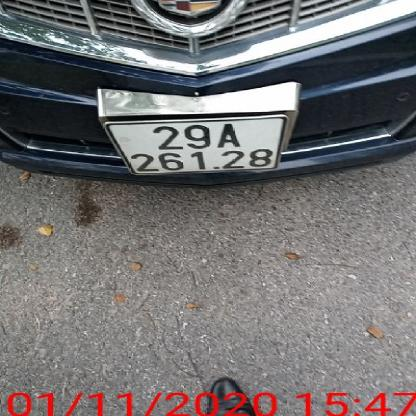biensoxe: (103, 114, 290, 176)
